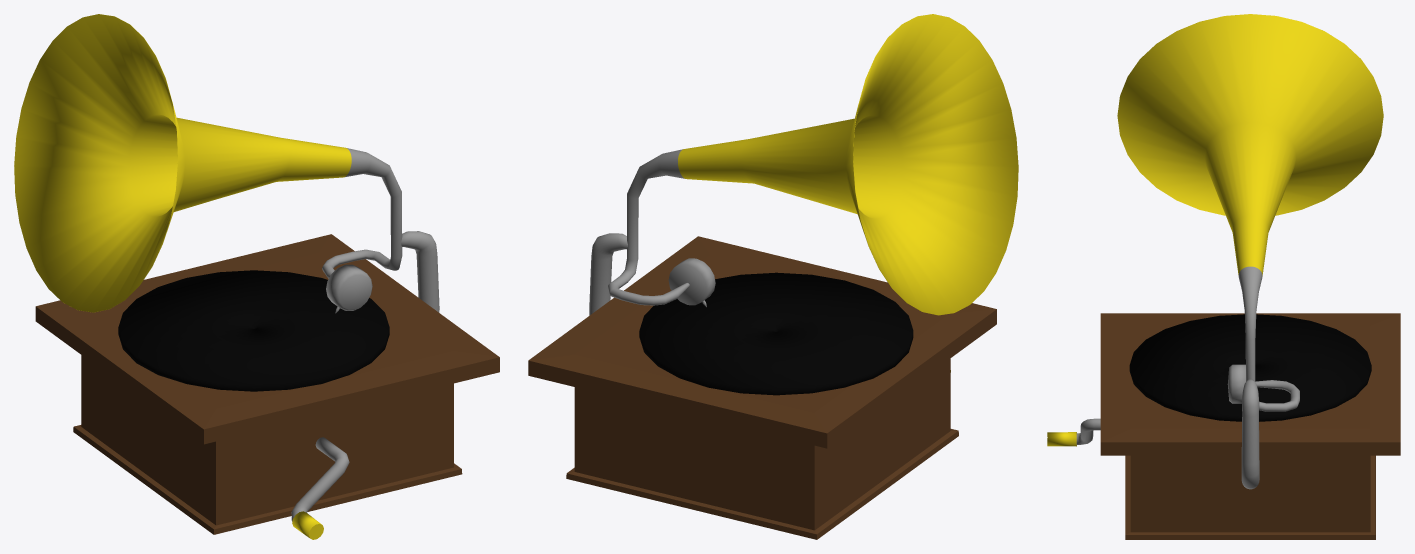
File: RecordPlayer.fbx
3 renders of one model, left to right at view 1: azimuth 30°, elevation 25°; view 2: azimuth 150°, elevation 25°; view 3: azimuth 270°, elevation 25°, orthographic. The views are drawn at different scales.
Visible parts, largest first — view 1: RecordPlayer.003; view 2: RecordPlayer.003; view 3: RecordPlayer.003.
Part boxes in pixels (x1,y1,x2,y2): RecordPlayer.003: (14,14,499,539); RecordPlayer.003: (528,14,1018,539); RecordPlayer.003: (1047,14,1400,539).
Bounding box in the file's own units: 220 × 258 × 200.
